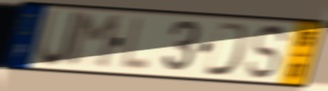3: (161, 19, 204, 74)
D: (201, 20, 252, 78)
L: (117, 15, 153, 74)
M: (64, 13, 124, 71)
S: (244, 22, 294, 81)
U: (34, 7, 86, 70)
